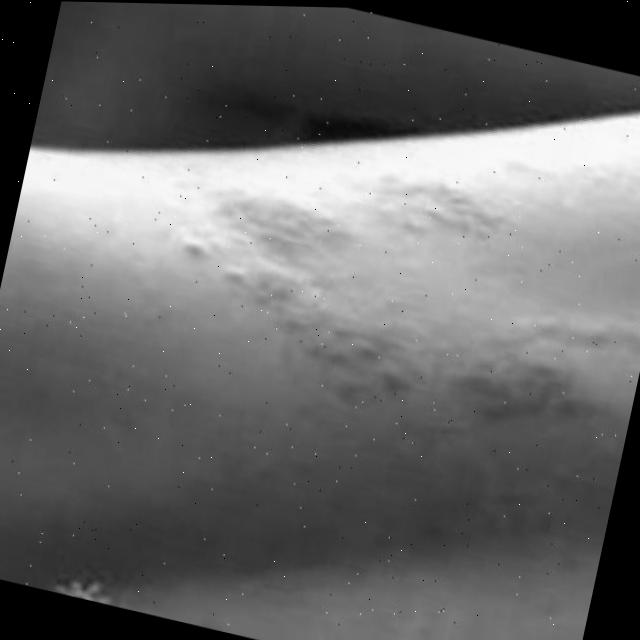Shingles: (158, 116, 640, 459)
